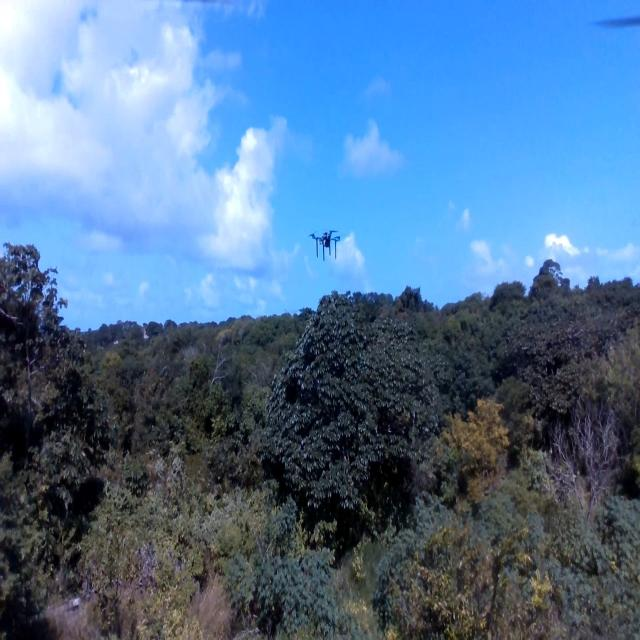-uav-: (298, 220, 348, 270)
